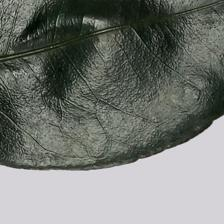healthy: (3, 6, 224, 131)
